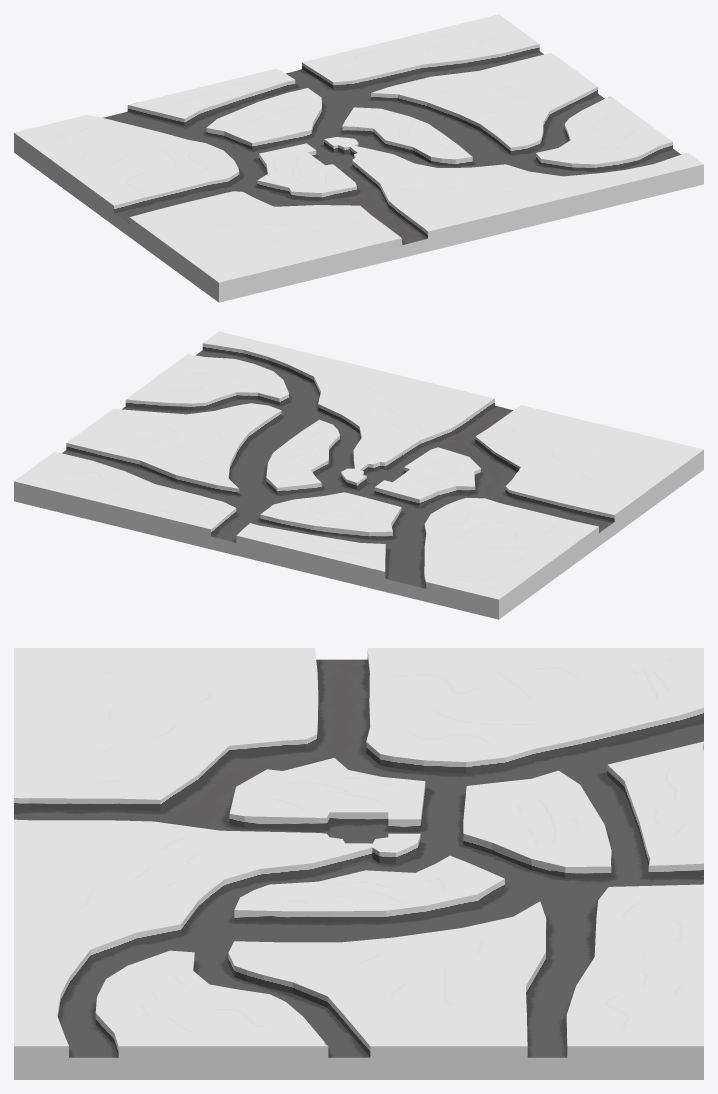
Rendered from Suelo_Nivel1_test.glb.
3 views of the same model, one above another, from view 1: azimuth 30°, elevation 25°; view 2: azimuth 150°, elevation 25°; view 3: azimuth 270°, elevation 25° (orthographic). The views are drawn at different scales.
Visible parts, largest first — view 1: Cube; view 2: Cube; view 3: Cube.
Part boxes in pixels (left/top/right/bottom): Cube: left=14, top=14, right=703, bottom=302; Cube: left=14, top=331, right=703, bottom=619; Cube: left=14, top=648, right=703, bottom=1079.
Size of the model in its own units: 5.07 by 0.2 by 3.71.
1 material, 1 textured.
